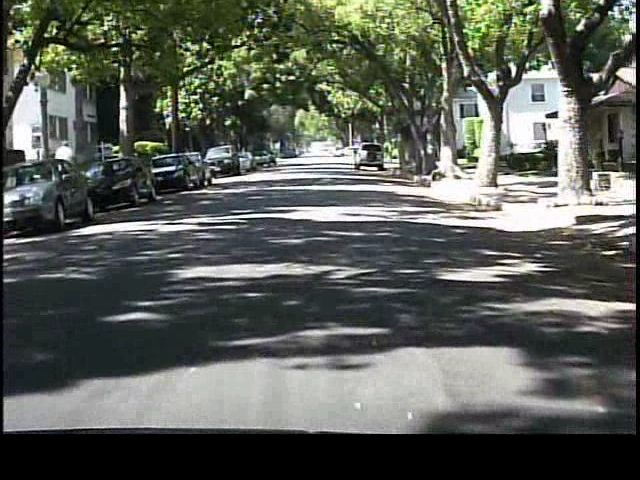person: (54, 140, 81, 200)
